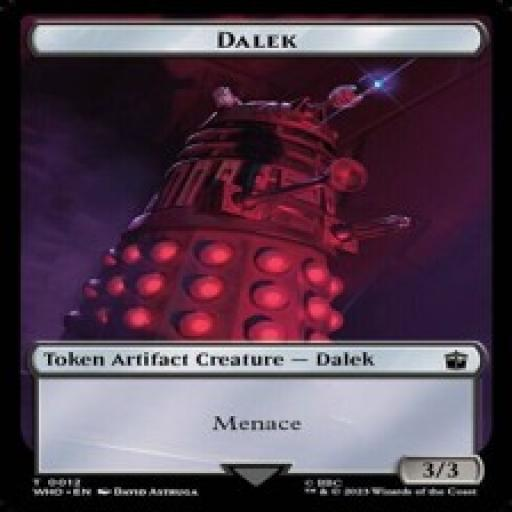dalek: (61, 70, 446, 347)
